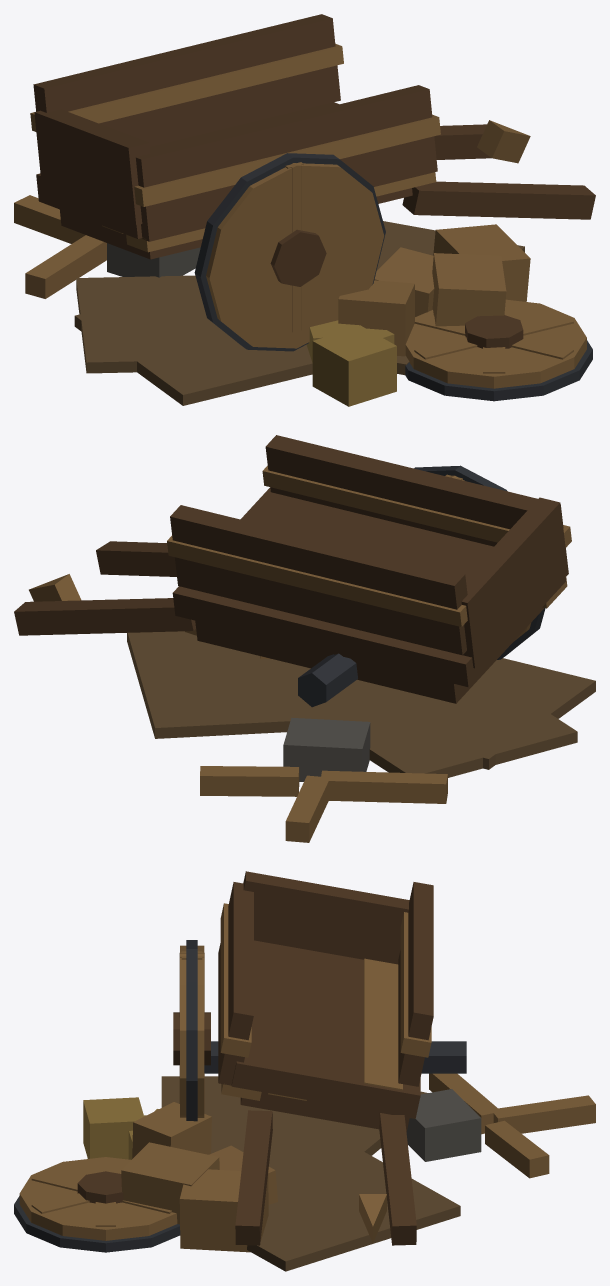
The model's file is broken_cart.glb.
3 renders of one model, top to bottom at view 1: azimuth 30°, elevation 25°; view 2: azimuth 150°, elevation 25°; view 3: azimuth 270°, elevation 25°, orthographic. The views are drawn at different scales.
Parts seen in each view (by area): view 1: timber_light, timber, dirt, iron_dark, thatch, stone_dark; view 2: timber, dirt, timber_light, stone_dark, iron_dark; view 3: timber, timber_light, dirt, iron_dark, stone_dark, thatch.
Part boxes in pixels (x1,y1,x2,y2): timber_light: (14,43,586,388); timber: (33,14,595,348); dirt: (74,221,524,405); iron_dark: (194,153,592,401); thatch: (306,320,396,406); stone_dark: (107,243,200,277); timber: (14,435,568,703); dirt: (127,631,595,777); timber_light: (29,466,571,842); stone_dark: (283,717,370,781); iron_dark: (298,465,545,707); timber: (77,871,433,1245); timber_light: (19,903,595,1252); dirt: (161,1076,460,1271); iron_dark: (14,940,466,1252); stone_dark: (406,1089,481,1161); thatch: (83,1097,158,1159).
Bounding box in the file's own units: 57.26 × 25.12 × 62.09.
